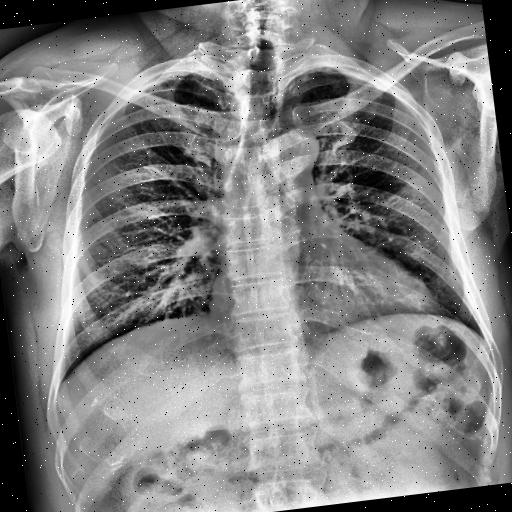0- Aortic enlargement: (262, 124, 320, 188)
11- Pleural thickening: (316, 56, 386, 98), (120, 66, 204, 88)
3- Cardiomegaly: (208, 246, 436, 340)
